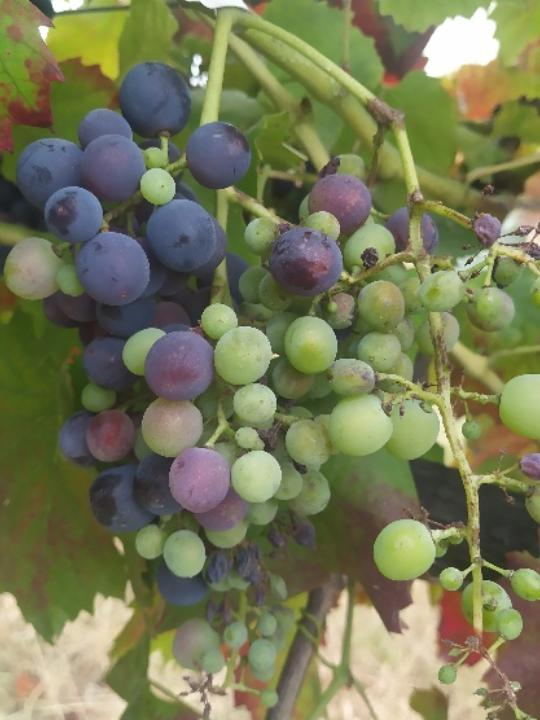grape: (3, 62, 336, 712), (302, 150, 540, 720)
